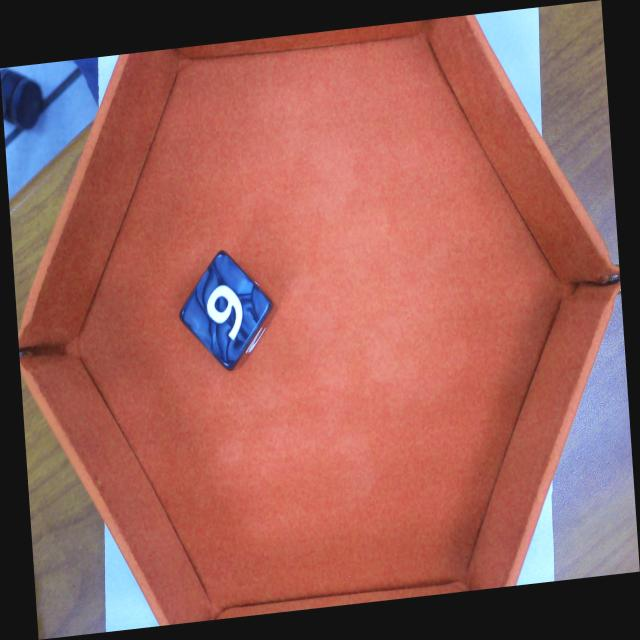dice: (177, 247, 274, 372)
